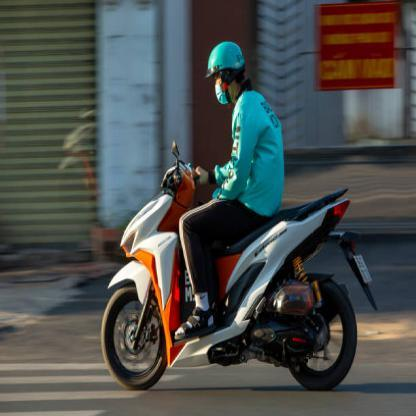Motorcycle: (99, 141, 368, 389)
